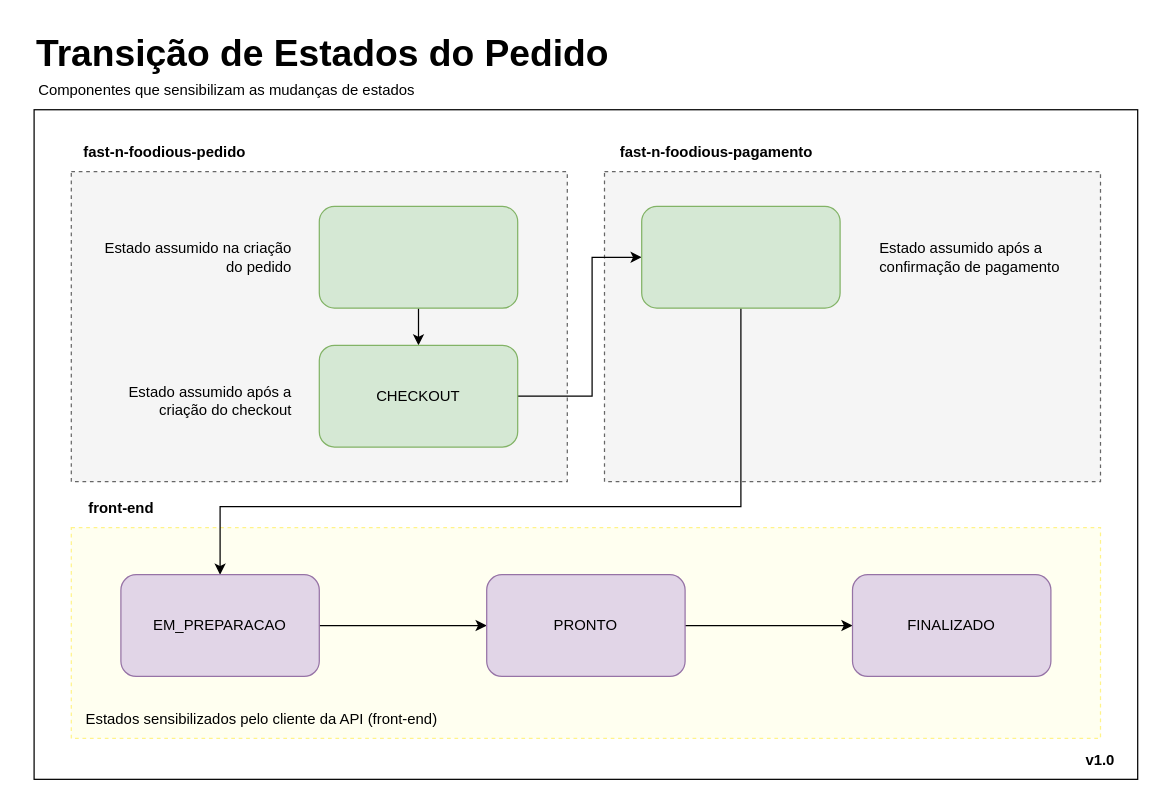
Image size: 1159x801. Some labels were removed from this diagram. The shapes that lost their labels are listed below. From the top down, each one's box as (x1, y1, x2, y2) in pixels, then its label:
(318, 205, 518, 308): PAGAMENTO_PENDENTE
(640, 205, 840, 308): RECEBIDO
